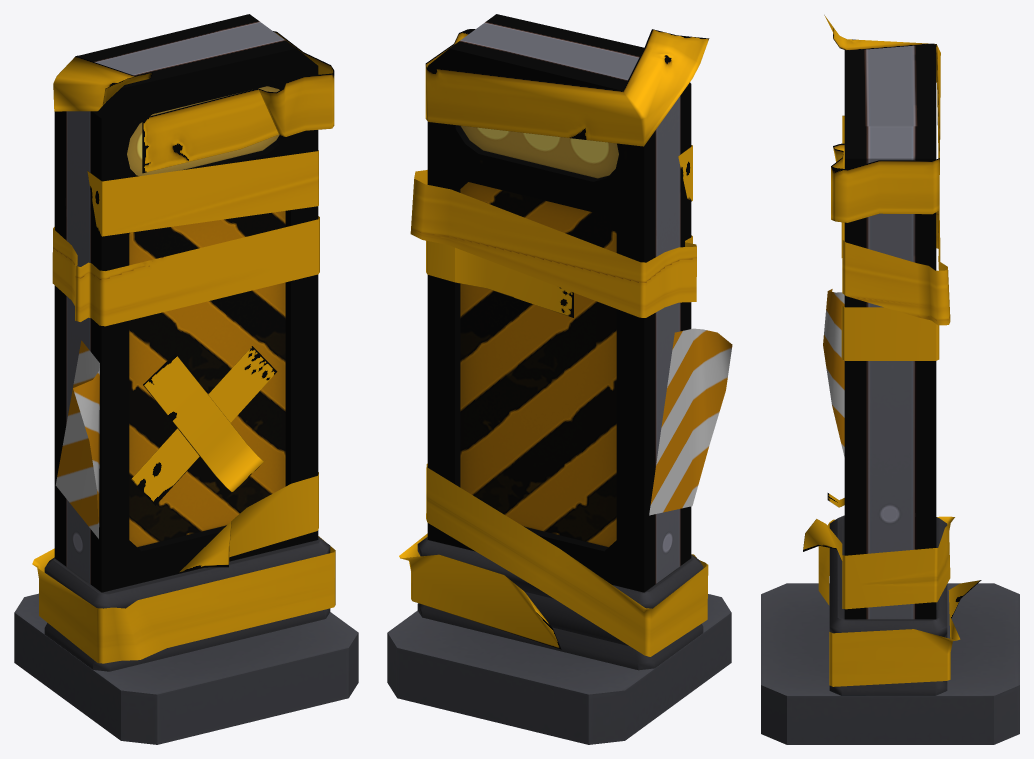
The model's file is obj_construction_signcone_taped.fbx.
3 renders of one model, left to right at view 1: azimuth 30°, elevation 25°; view 2: azimuth 150°, elevation 25°; view 3: azimuth 270°, elevation 25°, orthographic. The views are drawn at different scales.
Visible parts, largest first — view 1: polySurface95; view 2: polySurface95; view 3: polySurface95.
Boxes of the visible parts, x1=… form: polySurface95: x1=14, y1=14, x2=358, y2=744; polySurface95: x1=387, y1=14, x2=732, y2=744; polySurface95: x1=761, y1=15, x2=1019, y2=744.
Bounding box in the file's own units: 2.27 × 5.14 × 1.94.
2 materials, 2 textured.
